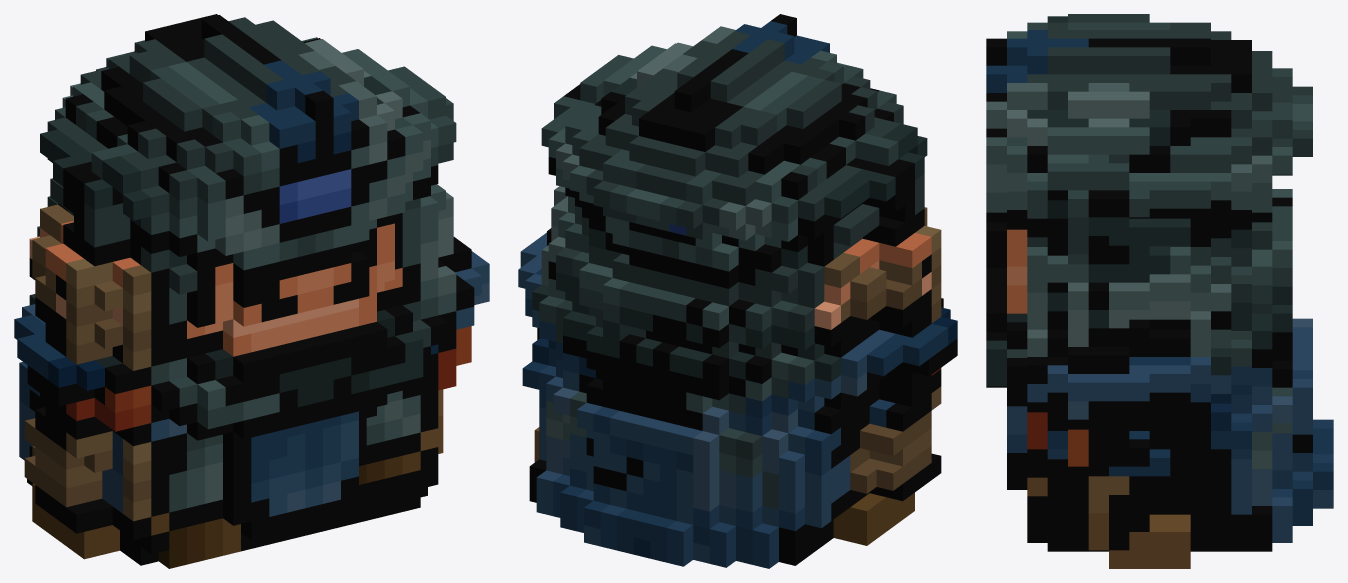
The model's file is Icon_716_03.obj.
3 views of the same model, side by side, from view 1: azimuth 30°, elevation 25°; view 2: azimuth 150°, elevation 25°; view 3: azimuth 270°, elevation 25° (orthographic). The views are drawn at different scales.
Bounding box in the file's own units: 2.4 × 2.4 × 1.7.
Materials: 1 (1 with a texture image).
